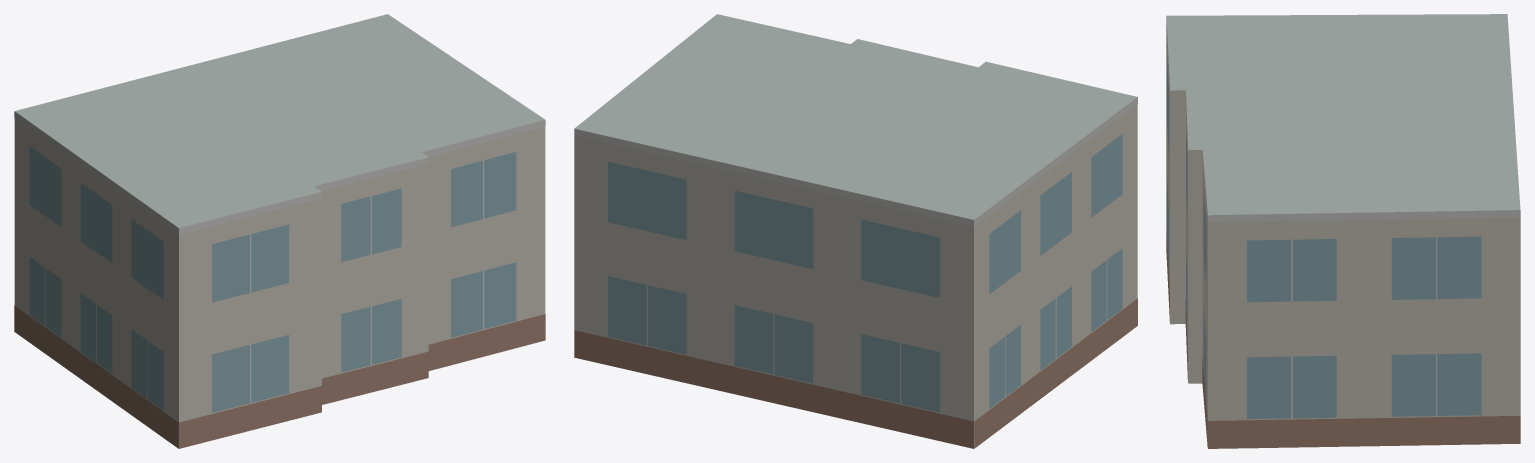
File: survey-upis-32492165.glb
3 views of the same model, side by side, from view 1: azimuth 30°, elevation 25°; view 2: azimuth 150°, elevation 25°; view 3: azimuth 270°, elevation 25° (orthographic). The views are drawn at different scales.
Parts seen in each view (by area): view 1: survey-upis-32492165.tmp; view 2: survey-upis-32492165.tmp; view 3: survey-upis-32492165.tmp.
Part boxes in pixels (bbox=[...]): survey-upis-32492165.tmp: bbox=[14, 14, 545, 448]; survey-upis-32492165.tmp: bbox=[574, 14, 1137, 448]; survey-upis-32492165.tmp: bbox=[1166, 14, 1520, 448].
Bounding box in the file's own units: 14.6 × 7.9 × 10.86.
